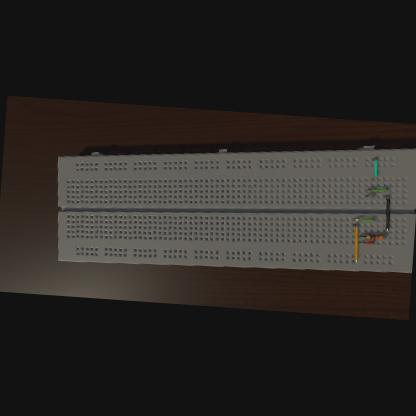breadboard: (50, 124, 416, 286)
resistor: (366, 235, 385, 240)
wire: (351, 224, 361, 262), (382, 196, 392, 231), (372, 159, 378, 180), (366, 188, 388, 193), (354, 218, 376, 223), (359, 241, 375, 245), (366, 195, 374, 198), (360, 236, 367, 238), (384, 237, 386, 238)
